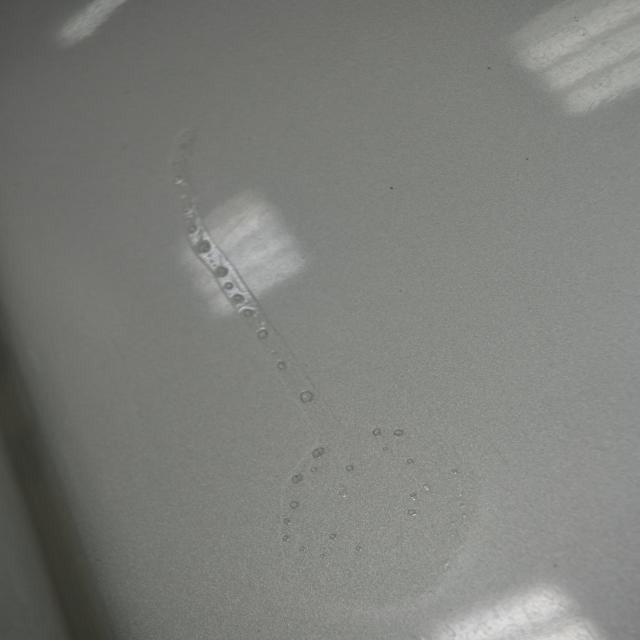dirt: (484, 63, 497, 76), (523, 154, 534, 163), (387, 184, 396, 192)
runs: (170, 128, 473, 609)
